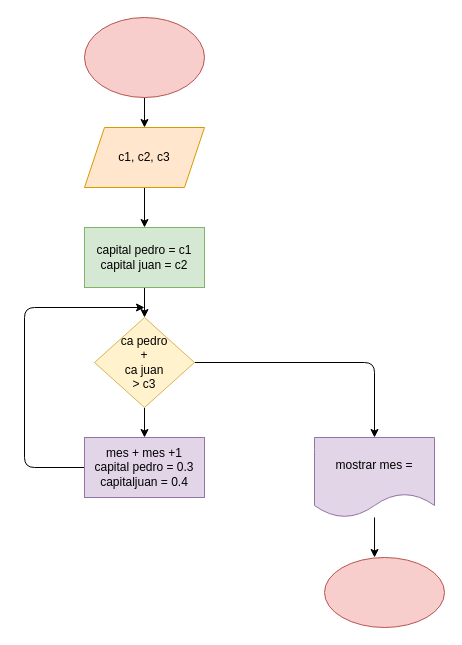
This 462x645 diagram has some shape labels left out. Each missing label, with the centre of its shape:
"fin" goes at point 384,592.
"inicio" goes at point 144,57.
